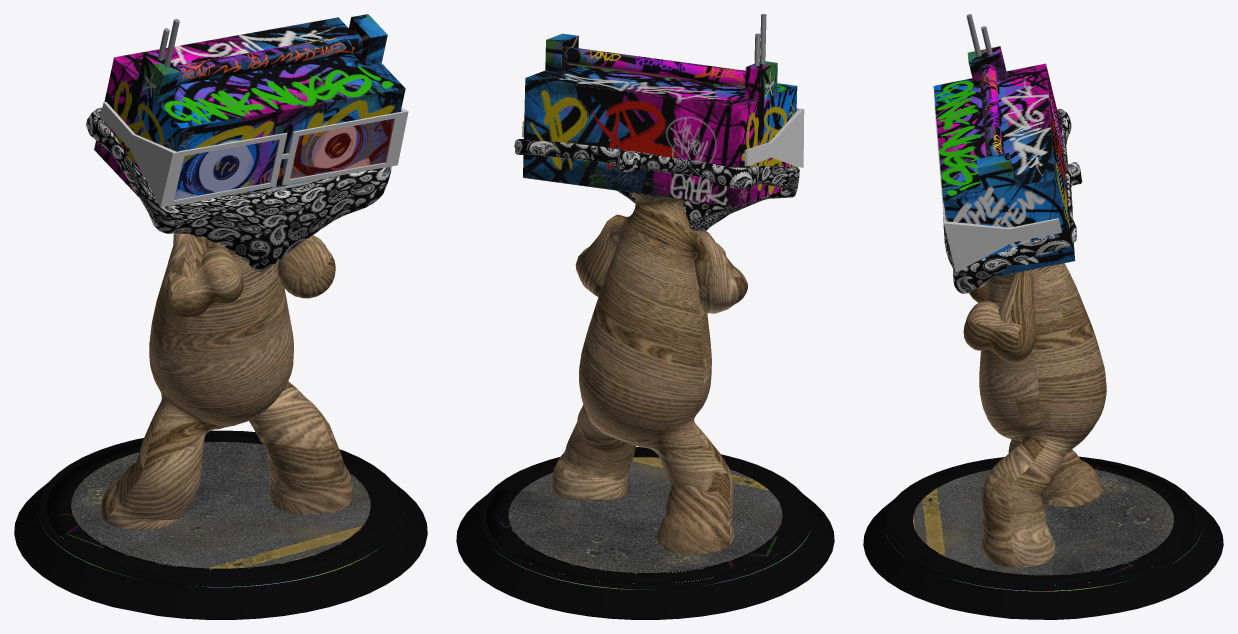
3 views of the same model, side by side, from view 1: azimuth 30°, elevation 25°; view 2: azimuth 150°, elevation 25°; view 3: azimuth 270°, elevation 25° (orthographic). The views are drawn at different scales.
Parts seen in each view (by area): view 1: BBody; view 2: BBody; view 3: BBody.
Boxes of the visible parts, bbox=[...] form: BBody: bbox=[14, 14, 427, 619]; BBody: bbox=[456, 14, 834, 619]; BBody: bbox=[863, 14, 1223, 619].
Bounding box in the file's own units: 1.45 × 2.18 × 1.45.
Materials: 9 (5 with a texture image).
